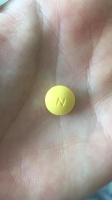Nurofen: (44, 84, 76, 118)
